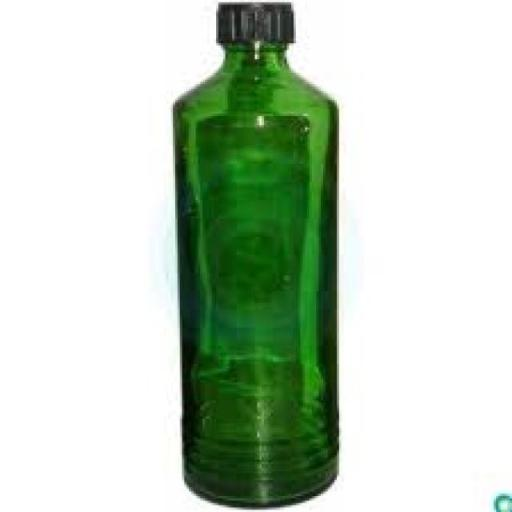glass: (146, 0, 355, 512)
